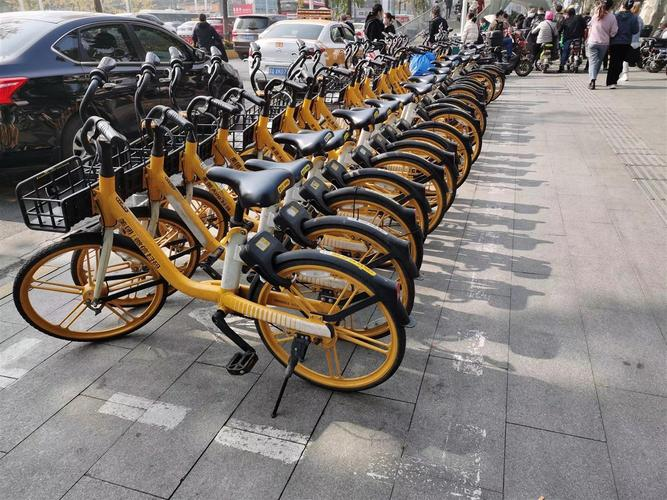单车: (12, 55, 477, 424)
